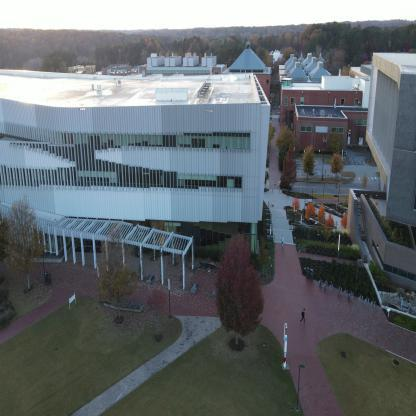Fitts- Woolard: (367, 39, 415, 304)
Hunt Library: (1, 50, 279, 297)
